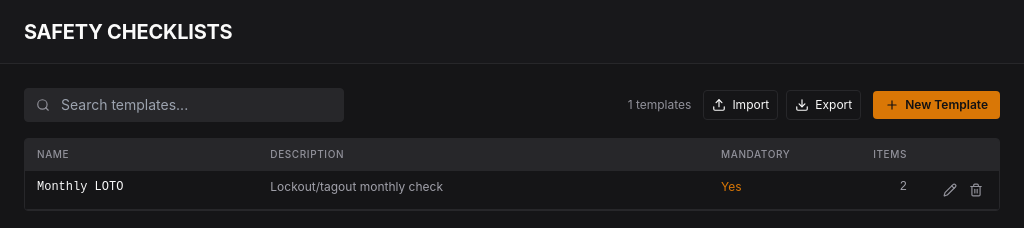
Test: SafetyChecklistsPage template management (tracker v1.1-17) › surfaces the API refusal when a delete is rejected with 409
Click the button named "delete template monthly loto" at (976, 190), box [965,179,987,201]
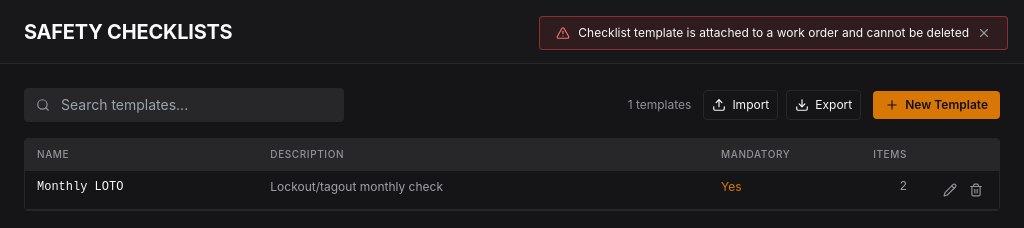
expect the text "attached to a work order and cannot be deleted" is shown: met, box [578,25,969,40]
